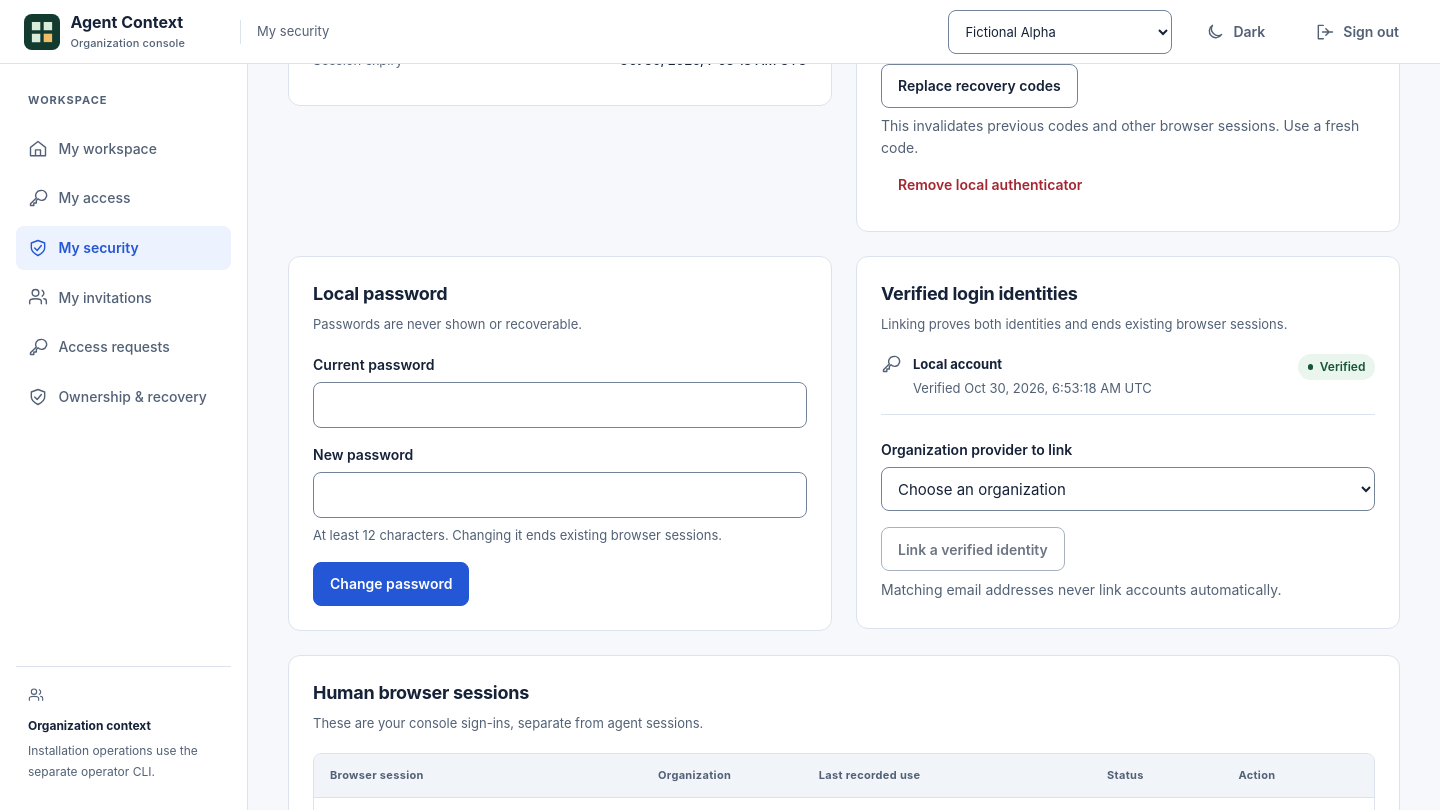
Test: organization boundary › asks before discarding sensitive input and requires explicit target-provider authentication
The image size is (1440, 810).
(page scrolled)
Type "sensitive-draft" into the password field labelled "Current password" at (560, 405), box [313, 382, 807, 428]
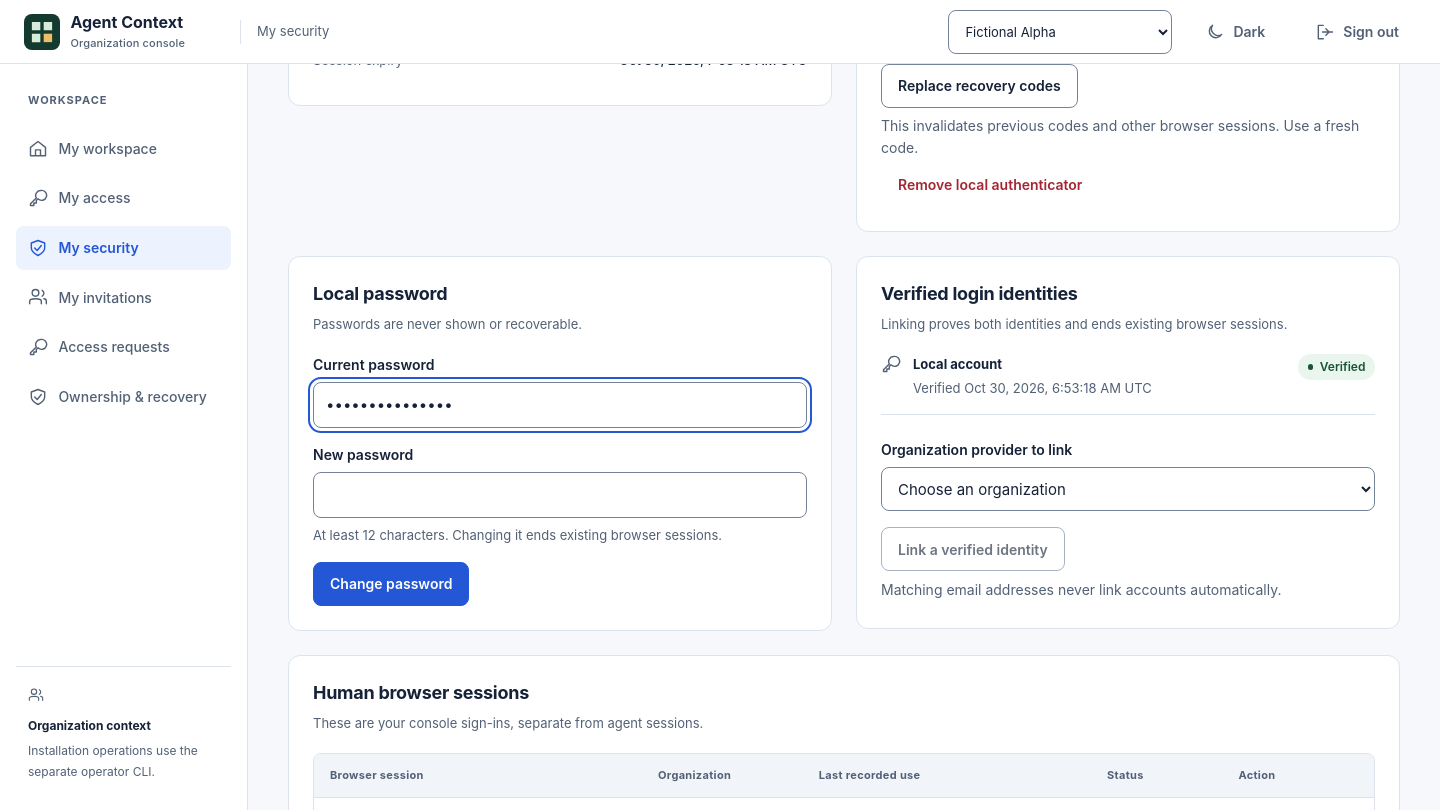
Select "Fictional Beta" in the dropdown named "Active organization" at (1060, 32), box [948, 10, 1172, 54]
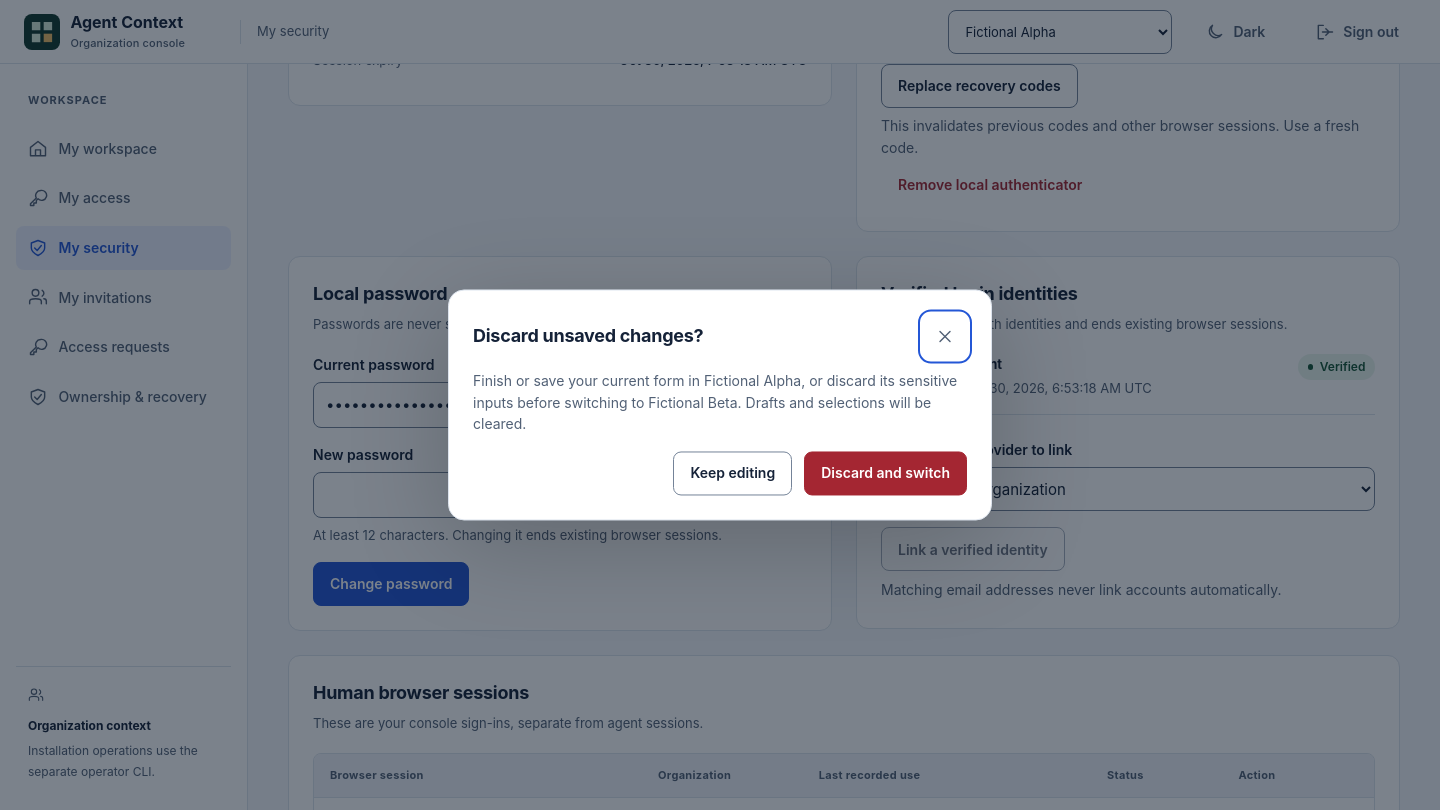
Result: the dialog "Discard unsaved changes?" is shown at [448, 290, 992, 521]
Click the button "Keep editing" at (733, 474), box [674, 452, 792, 496]
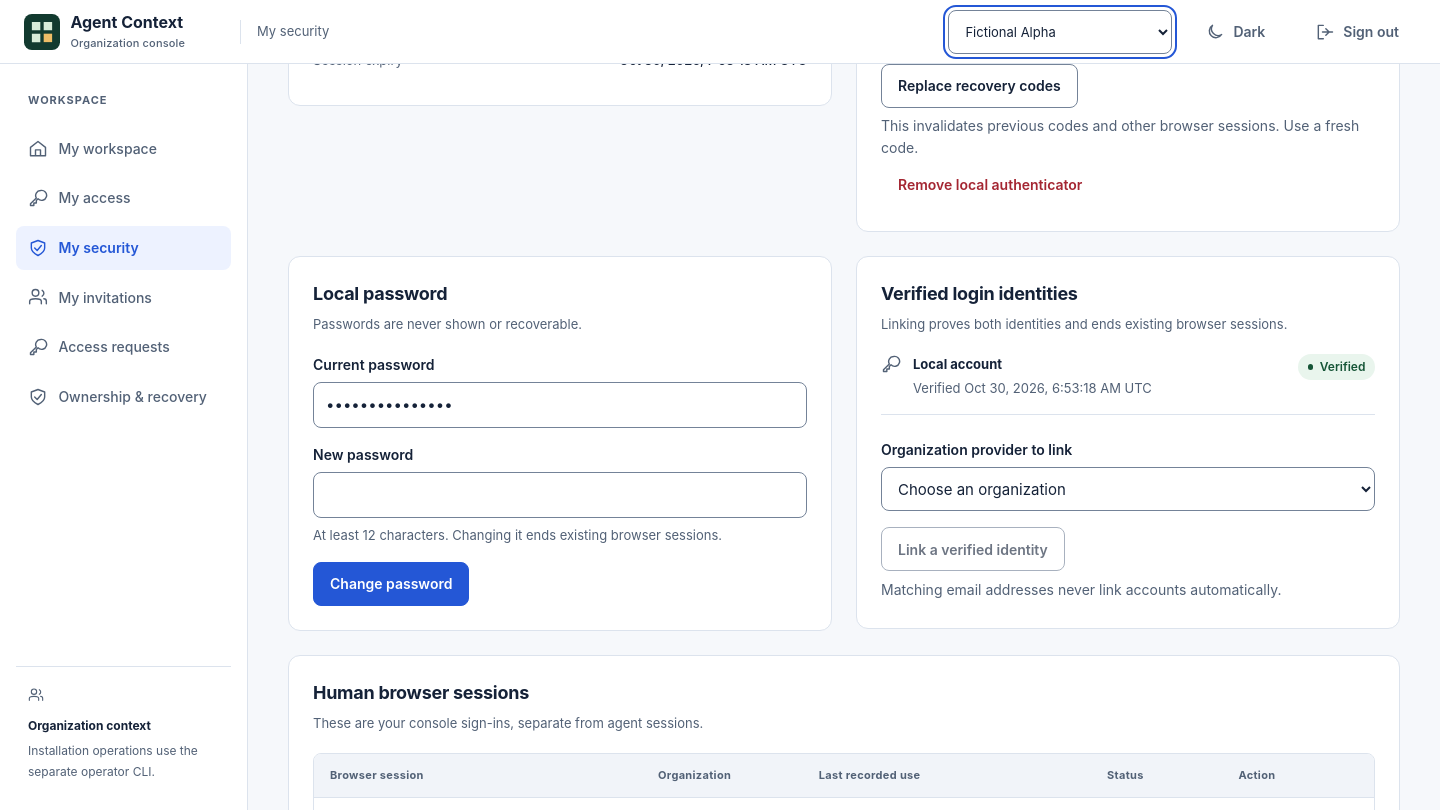
Select "Fictional Beta" in the dropdown named "Active organization" at (1060, 32), box [948, 10, 1172, 54]
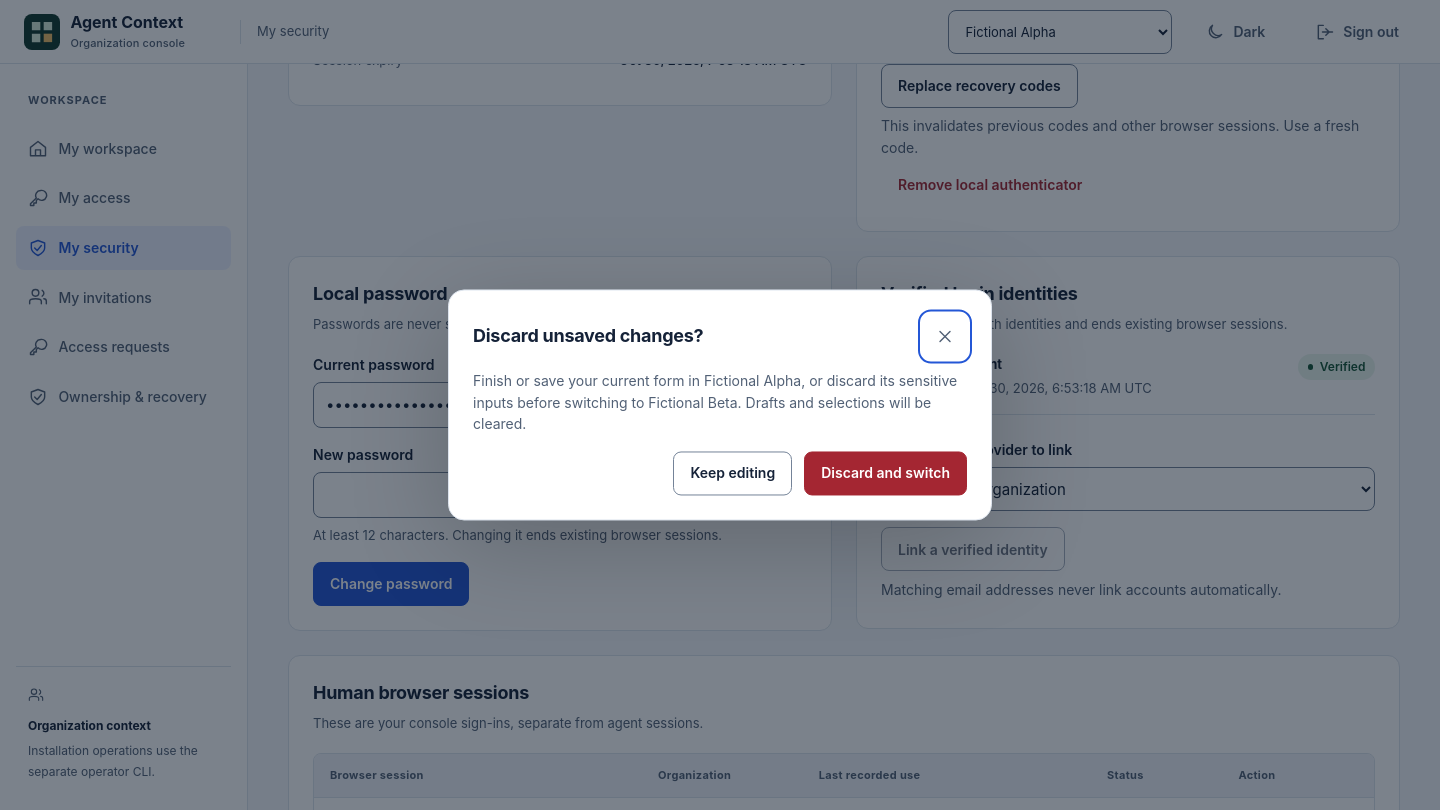
Click the button "Discard and switch" at (886, 474), box [804, 452, 967, 496]
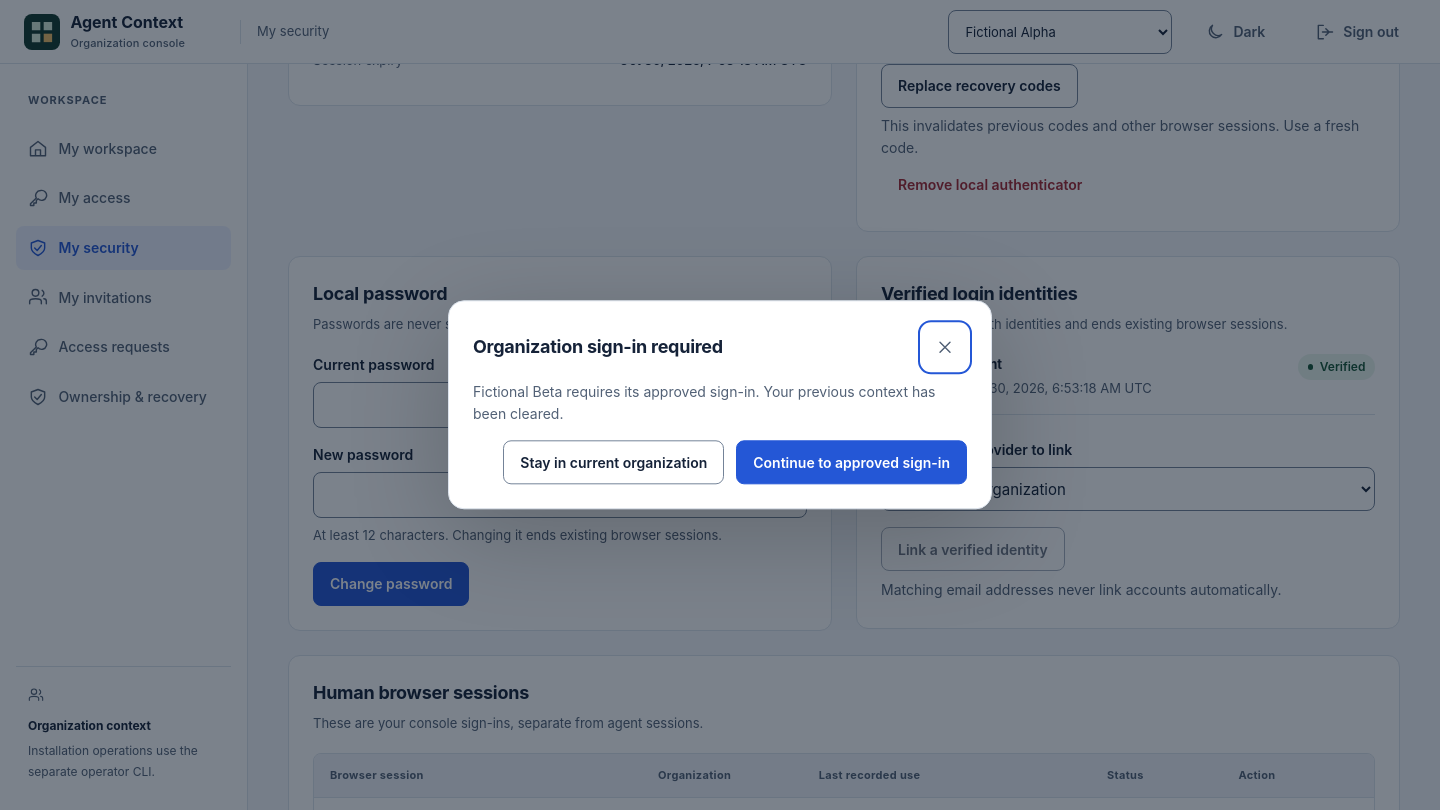
Result: the dialog "Organization sign-in required" is shown at [448, 300, 992, 510]
Result: the password field labelled "Current password" is empty at [313, 382, 807, 428]
